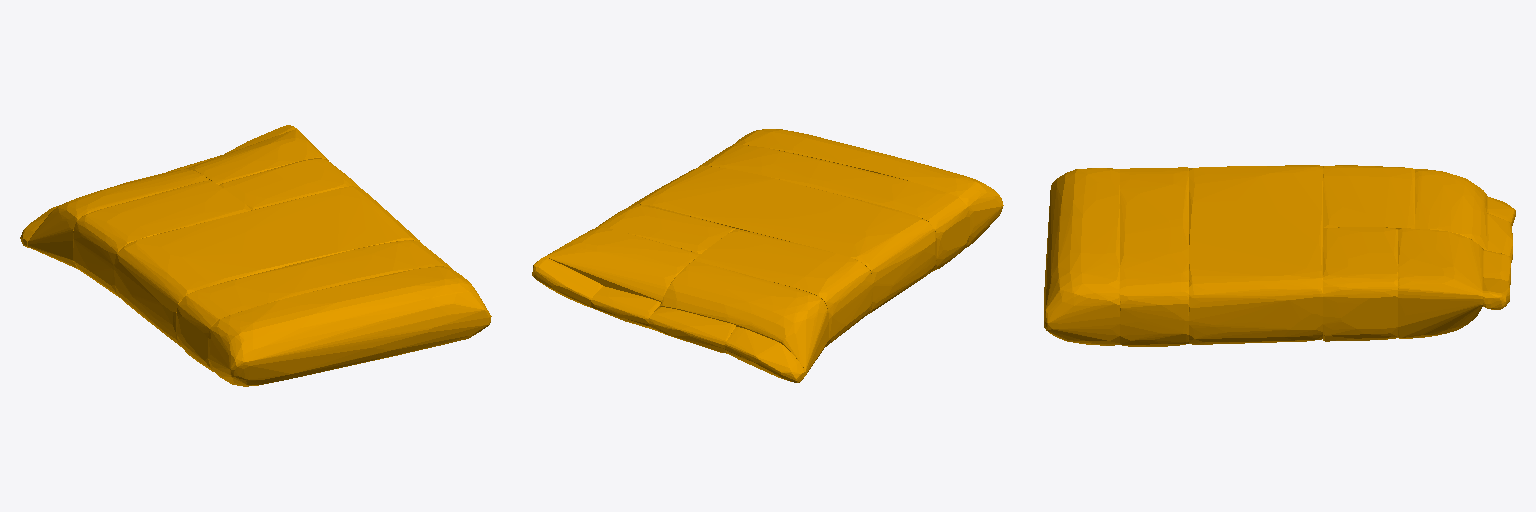
URDF robot description (026_sponge):
<?xml version="1.0" encoding="UTF-8"?>
<robot name="026_sponge">
	<link name="base">
		<collision>
			<geometry>
				<mesh filename="..\vhacd\026_sponge_vhacd.obj" scale="1.0 1.0 1.0"/>
			</geometry>
			<origin xyz="0 0 0"/>
			<contact_coefficients mu="0.24" />
		</collision>
		<visual>
			<geometry>
				<mesh filename="..\vhacd\026_sponge_vhacd.obj" scale="1.0 1.0 1.0"/>
			</geometry>
			<origin xyz="0 0 0"/>
		</visual>
		<inertial>
			<mass value="0"/>
			<inertia ixx="0.0" ixy="-0.0" ixz="-0.0" iyy="0.0" iyz="-0.0" izz="0.0" />
			<origin xyz="-0.015842356584873186 0.011520562261244484 0.0093725250890843"/>
		</inertial>
	</link>
</robot>

--- What the picture shows (computed from the rendered views, not written in the file) ---
The picture shows the robot from 3 angles, left to right: view 1: azimuth 30°, elevation 25°; view 2: azimuth 150°, elevation 25°; view 3: azimuth 270°, elevation 25°; orthographic projection.
Robot: 026_sponge — 1 links, 0 joints (none); root link base; default pose: every joint at zero.
Links seen in each view (by area): view 1: base; view 2: base; view 3: base.
Link boxes in pixels (x1,y1,x2,y2): base: (20, 125, 491, 386); base: (532, 129, 1003, 382); base: (1044, 165, 1515, 346).
Size in the robot's own frame: 0.0794 by 0.1124 by 0.0192 metres.
Meshes: 1 distinct files referenced, 1 mesh visuals loaded (1 OBJ).